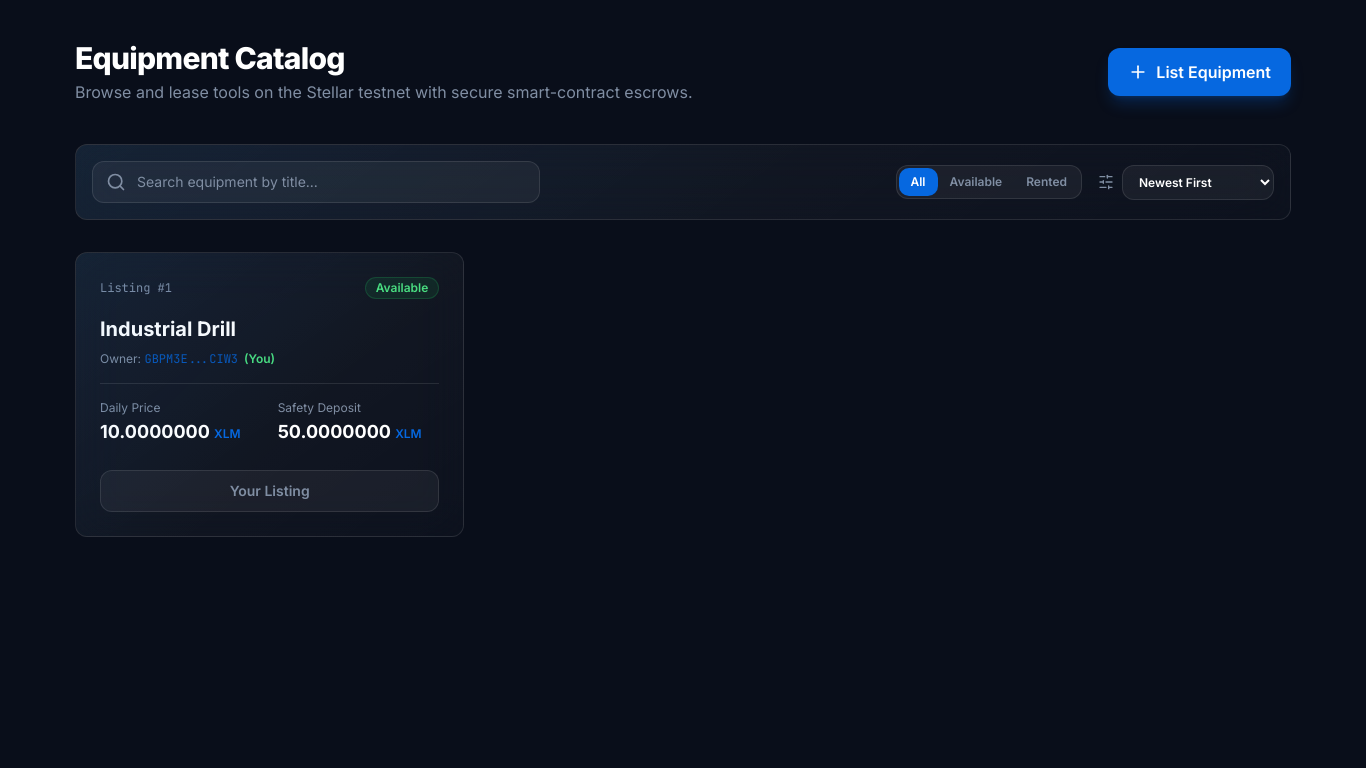
Test: Marketplace Page › shows listing modal when clicking List Equipment
Click the button "List Equipment".
click(1200, 72)  # box left=1108, top=48, right=1291, bottom=96
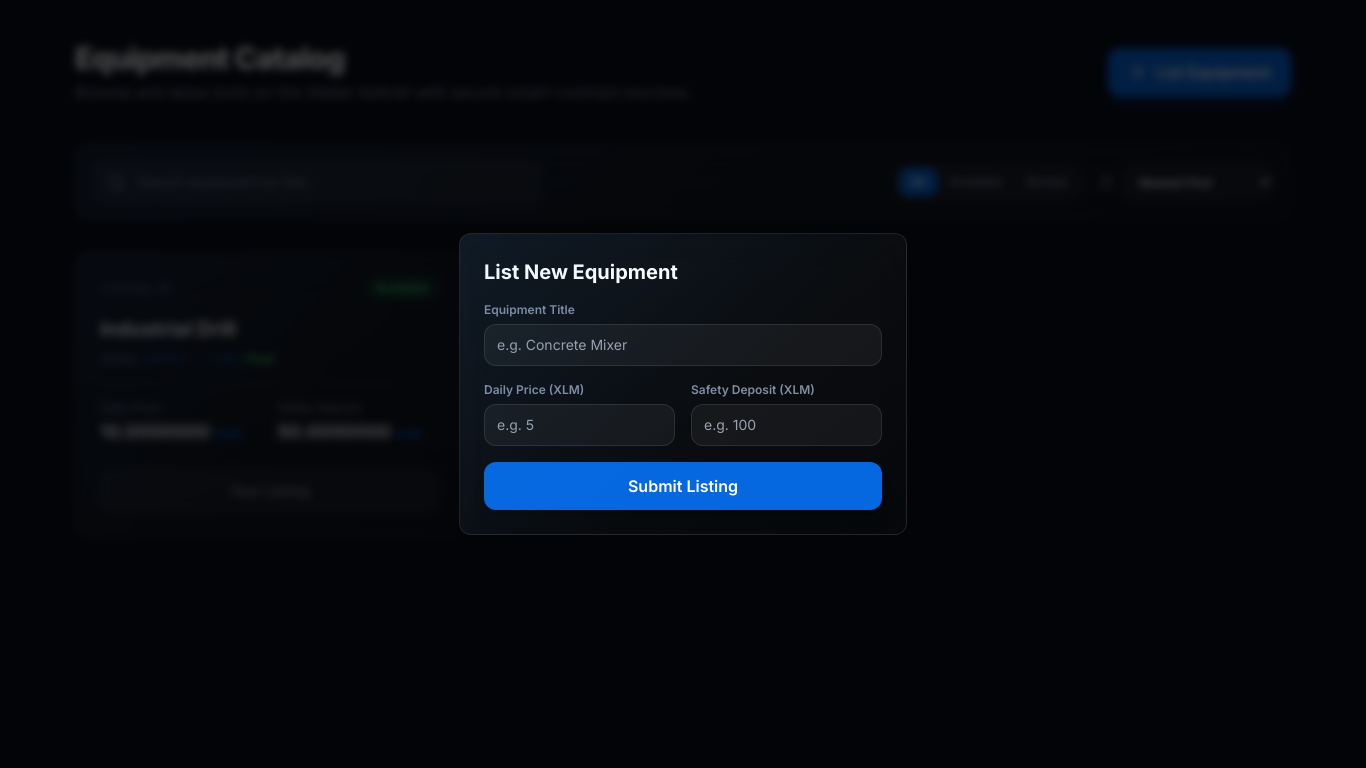
Expected: the heading "List New Equipment" is shown, left=484, top=260, right=678, bottom=284
Expected: the field with placeholder "e.g. Concrete Mixer" is shown, left=484, top=324, right=882, bottom=366
